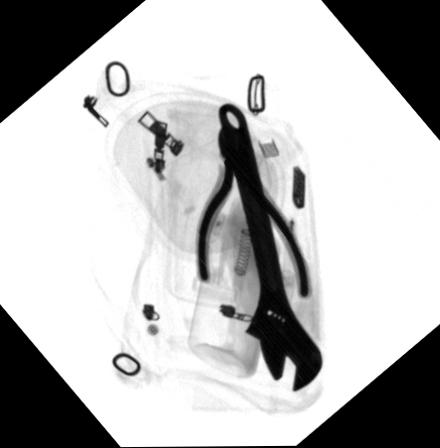Pliers: (193, 123, 309, 297)
Wrench: (217, 102, 322, 391)
